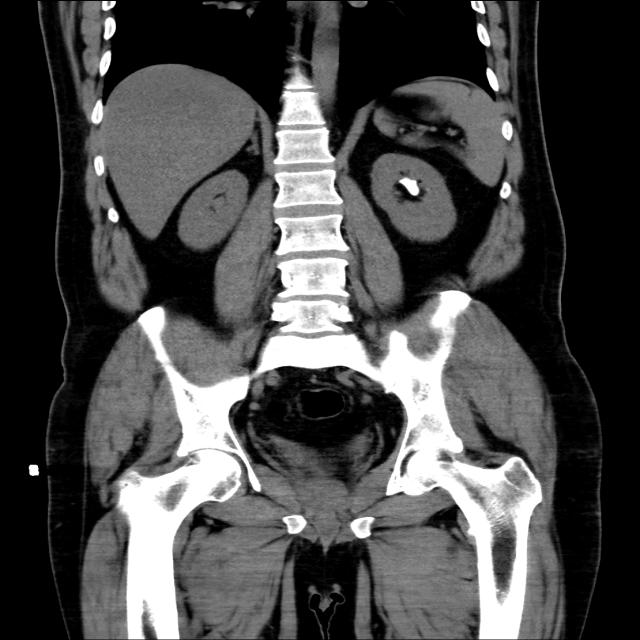kidneystone: (397, 176, 421, 197)
